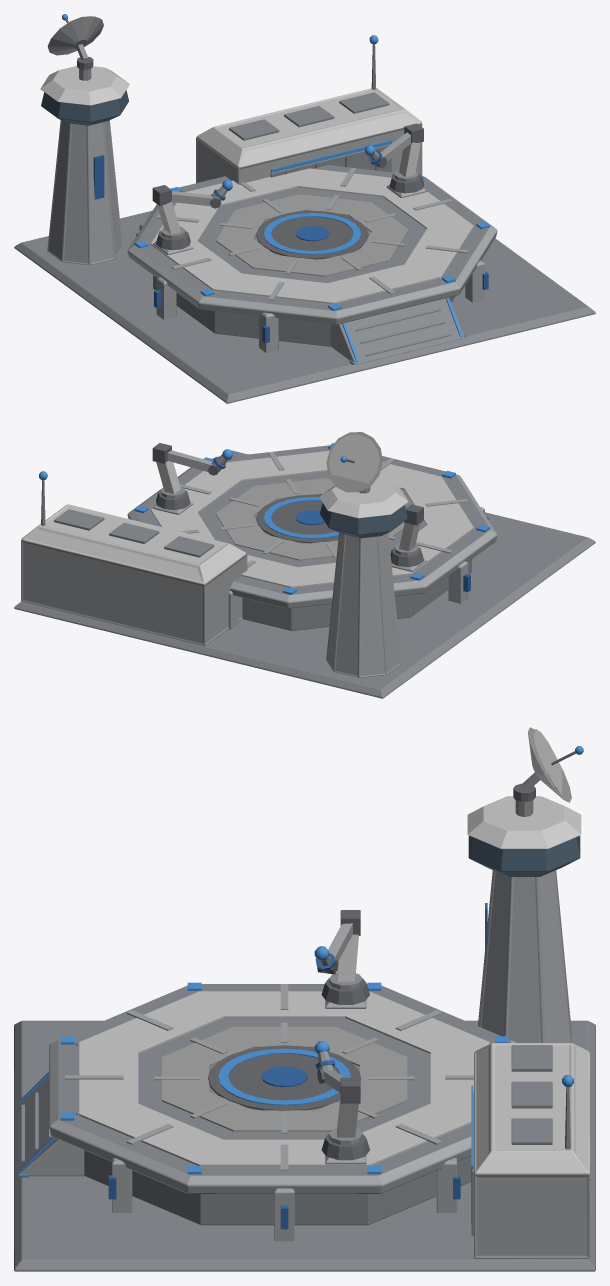
File: lattice_aircraft_plant.glb
3 views of the same model, one above another, from view 1: azimuth 30°, elevation 25°; view 2: azimuth 150°, elevation 25°; view 3: azimuth 270°, elevation 25° (orthographic). The views are drawn at different scales.
Parts seen in each view (by area): view 1: Body, Rotor_Y; view 2: Body, Rotor_Y; view 3: Body, Rotor_Y.
Boxes of the visible parts, x1,y1,x2,y2 form: Body: (14,35,595,403); Rotor_Y: (47,14,103,69); Body: (14,443,595,698); Rotor_Y: (326,432,382,492); Body: (14,796,595,1271); Rotor_Y: (513,727,583,802).
Bounding box in the file's own units: 22.8 × 14.03 × 22.8.
